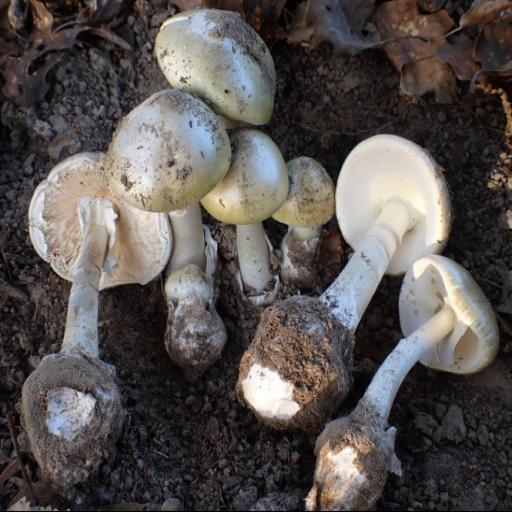mushroom: (17, 16, 500, 507)
